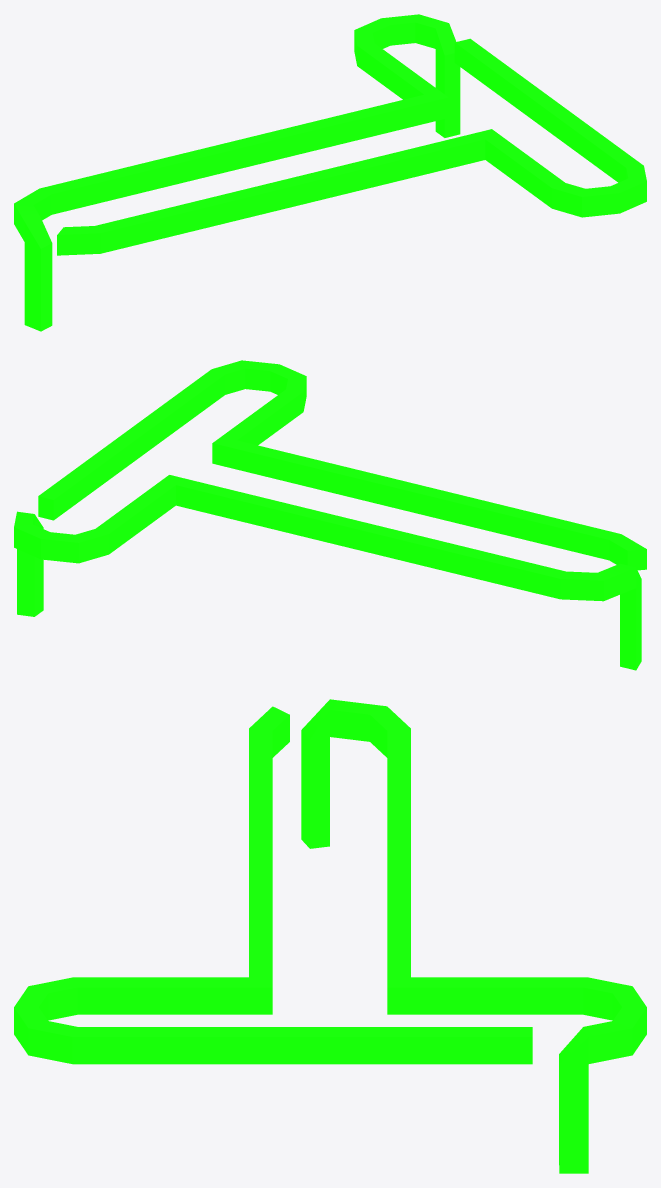
File: Alphabet_3D_04_T.FBX
3 views of the same model, one above another, from view 1: azimuth 30°, elevation 25°; view 2: azimuth 150°, elevation 25°; view 3: azimuth 270°, elevation 25° (orthographic). The views are drawn at different scales.
Parts seen in each view (by area): view 1: Alphabet_3D_04_T; view 2: Alphabet_3D_04_T; view 3: Alphabet_3D_04_T.
Boxes of the visible parts, x1,y1,x2,y2 form: Alphabet_3D_04_T: (14, 14, 646, 331); Alphabet_3D_04_T: (14, 360, 646, 670); Alphabet_3D_04_T: (14, 699, 646, 1173).
Bounding box in the file's own units: 66.94 × 12.63 × 53.03.
